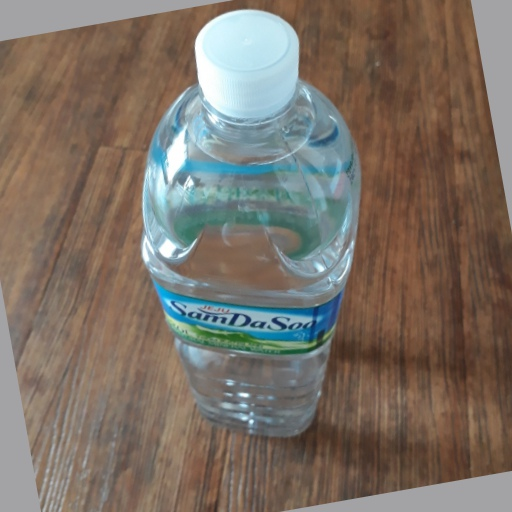Plastic_0: (139, 9, 359, 438)
